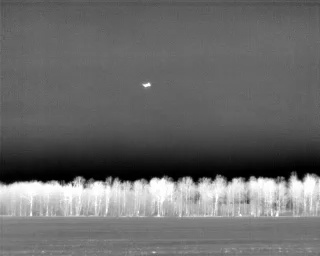DRONE: (139, 78, 155, 92)
